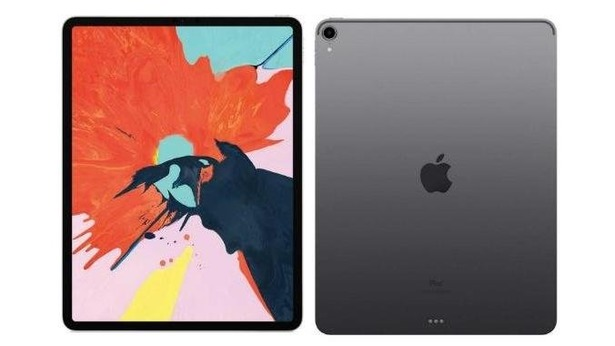apple: (404, 146, 462, 200)
